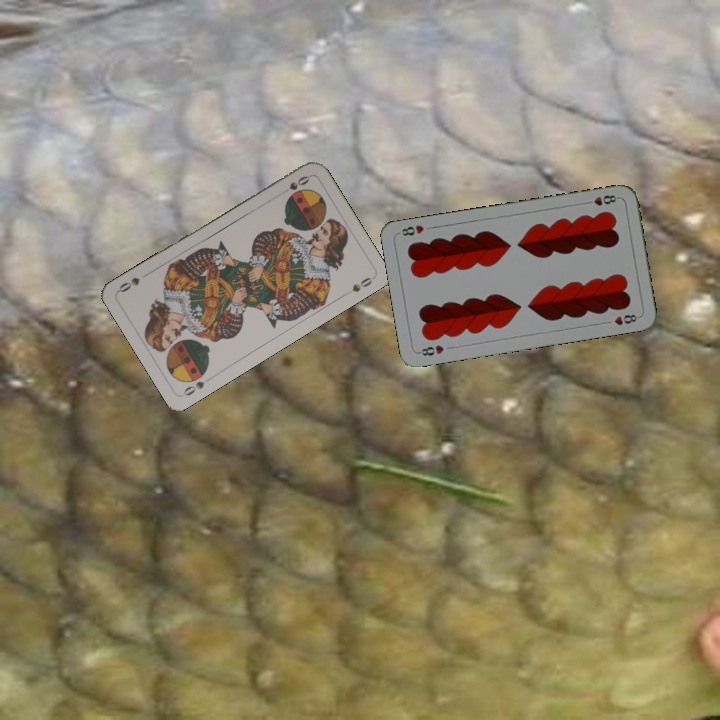H8: (581, 191, 621, 208), (414, 341, 447, 358)
SO: (276, 171, 313, 198), (179, 377, 207, 398)
